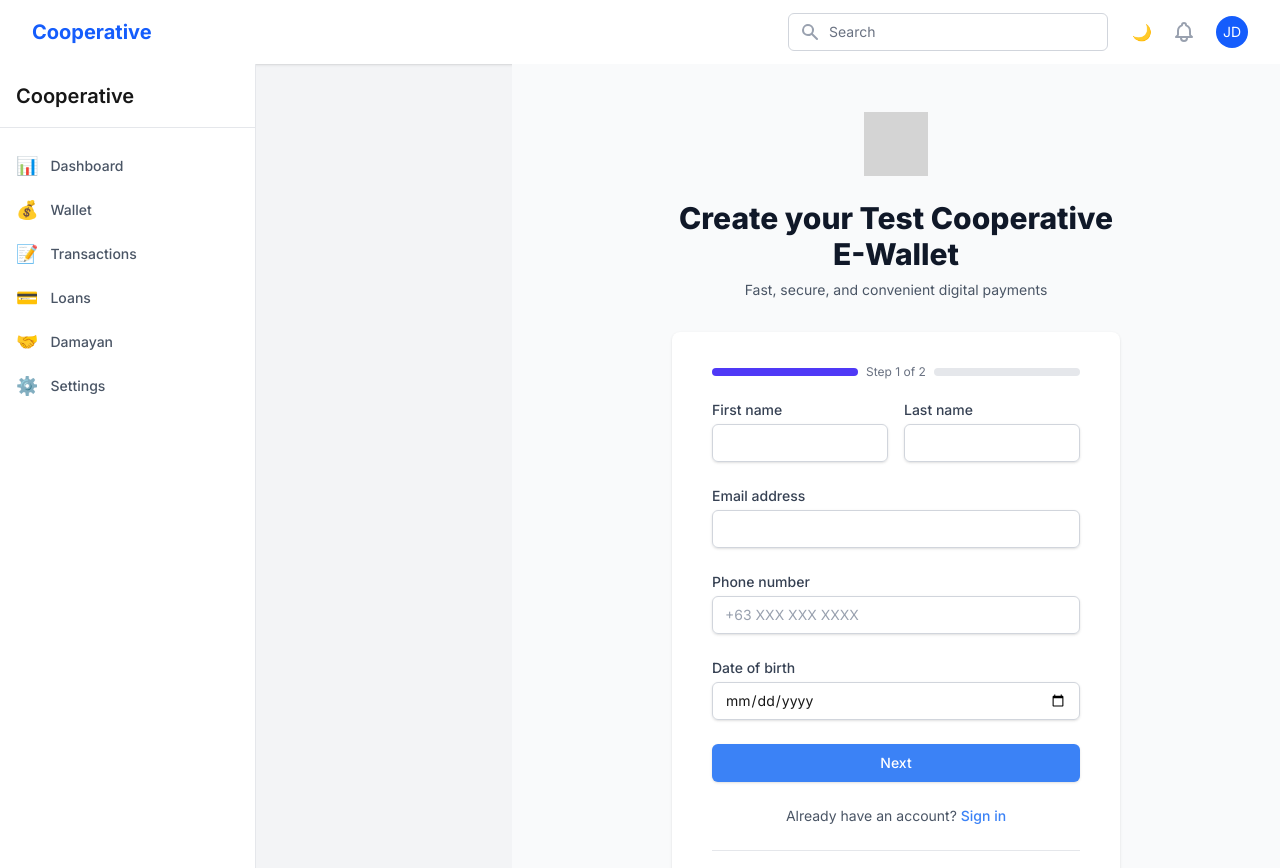
Test: EWalletRegisterPage › allows navigation between steps
Note: Fill out step 1
In the field labelled "First name": (800, 443) [712,424,888,462], type "John"
In the field labelled "Last name": (992, 443) [904,424,1080,462], type "Doe"
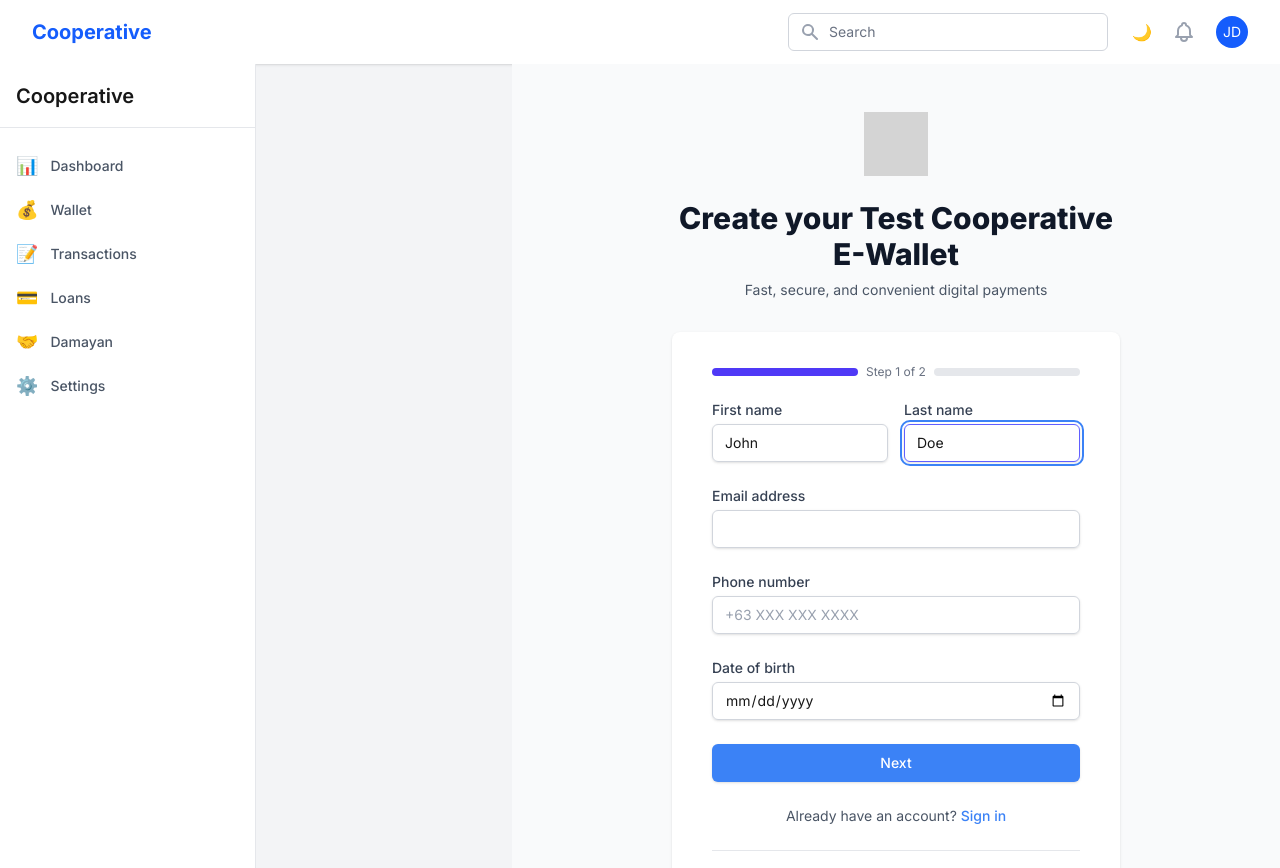
In the field labelled "Email address": (896, 529) [712,510,1080,548], type "john.doe@example.com"
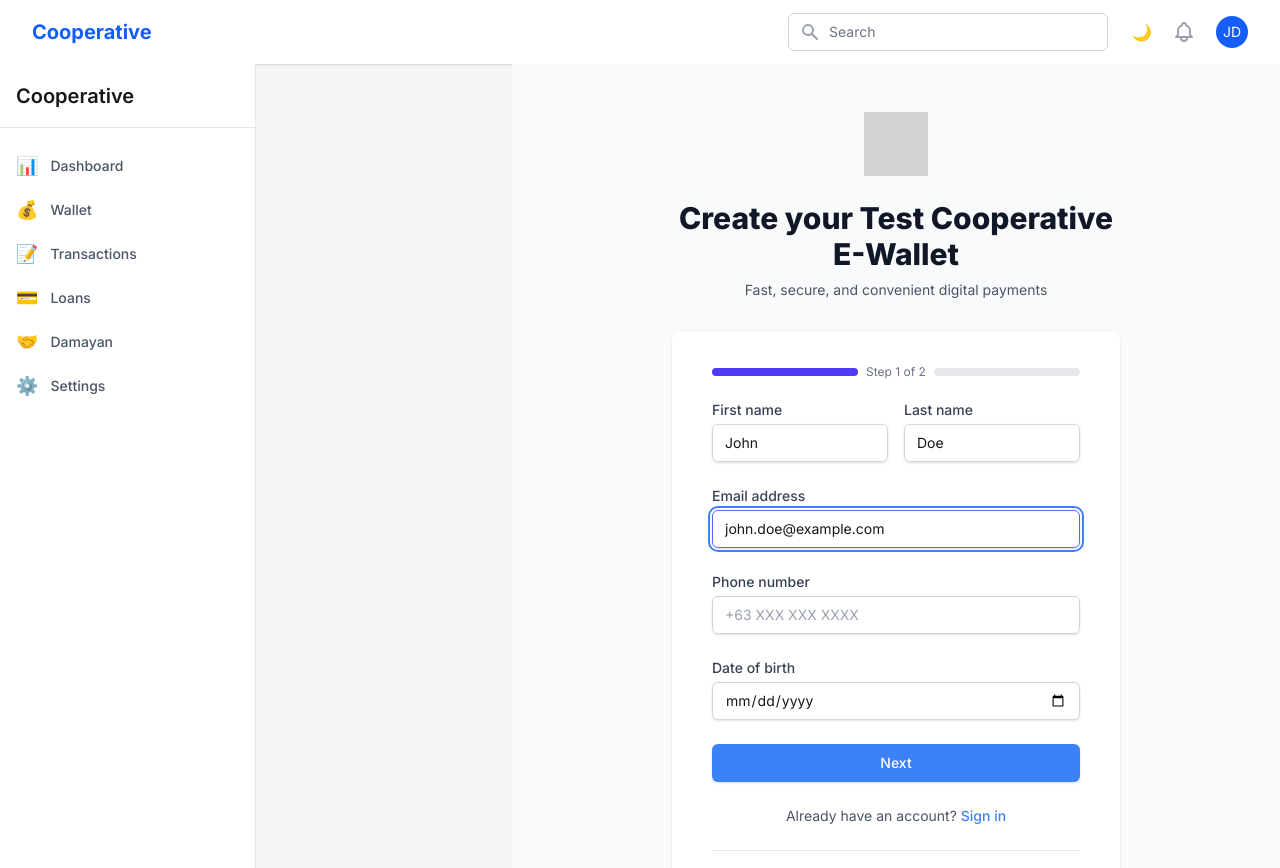
In the field labelled "Phone number": (896, 615) [712,596,1080,634], type "+1234567890"
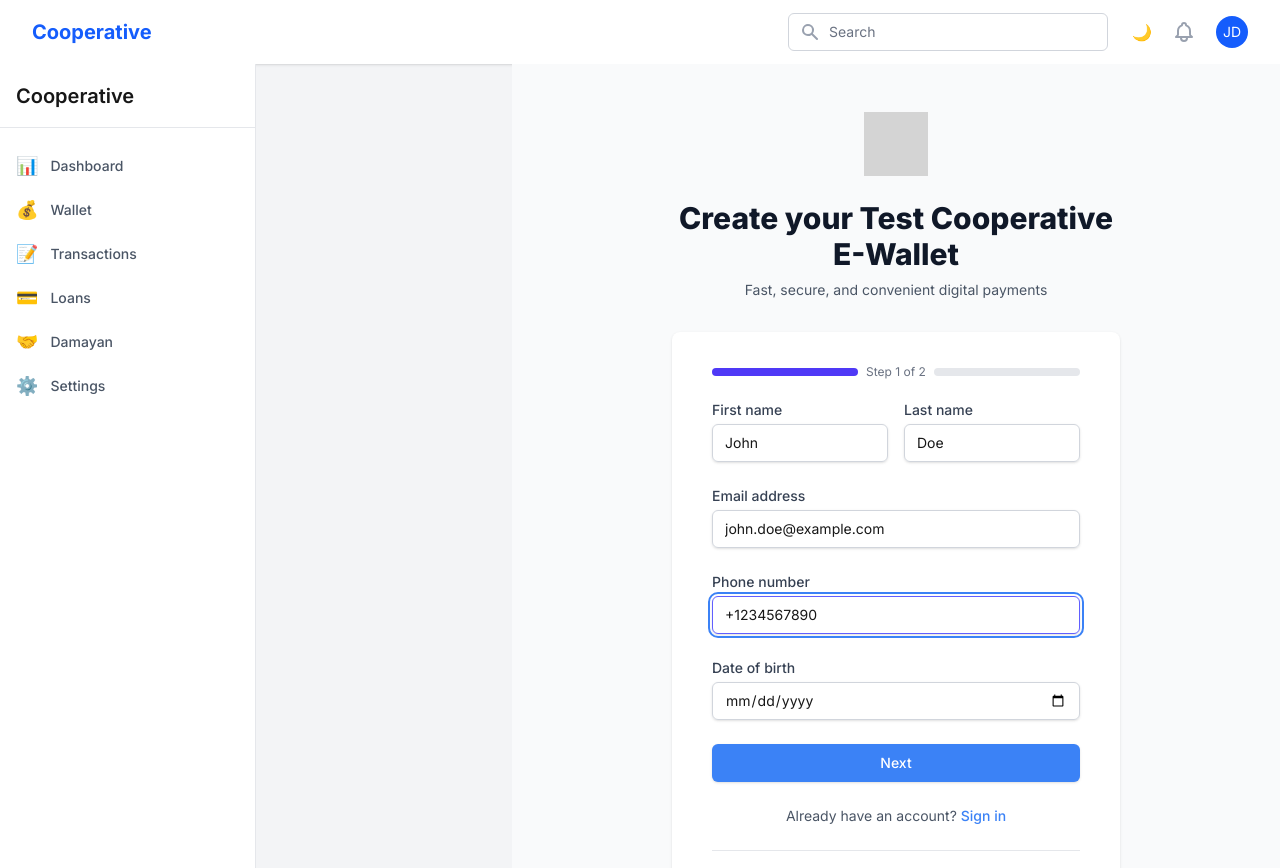
In the date field labelled "Date of birth": (896, 701) [712,682,1080,720], type "1990-01-01"
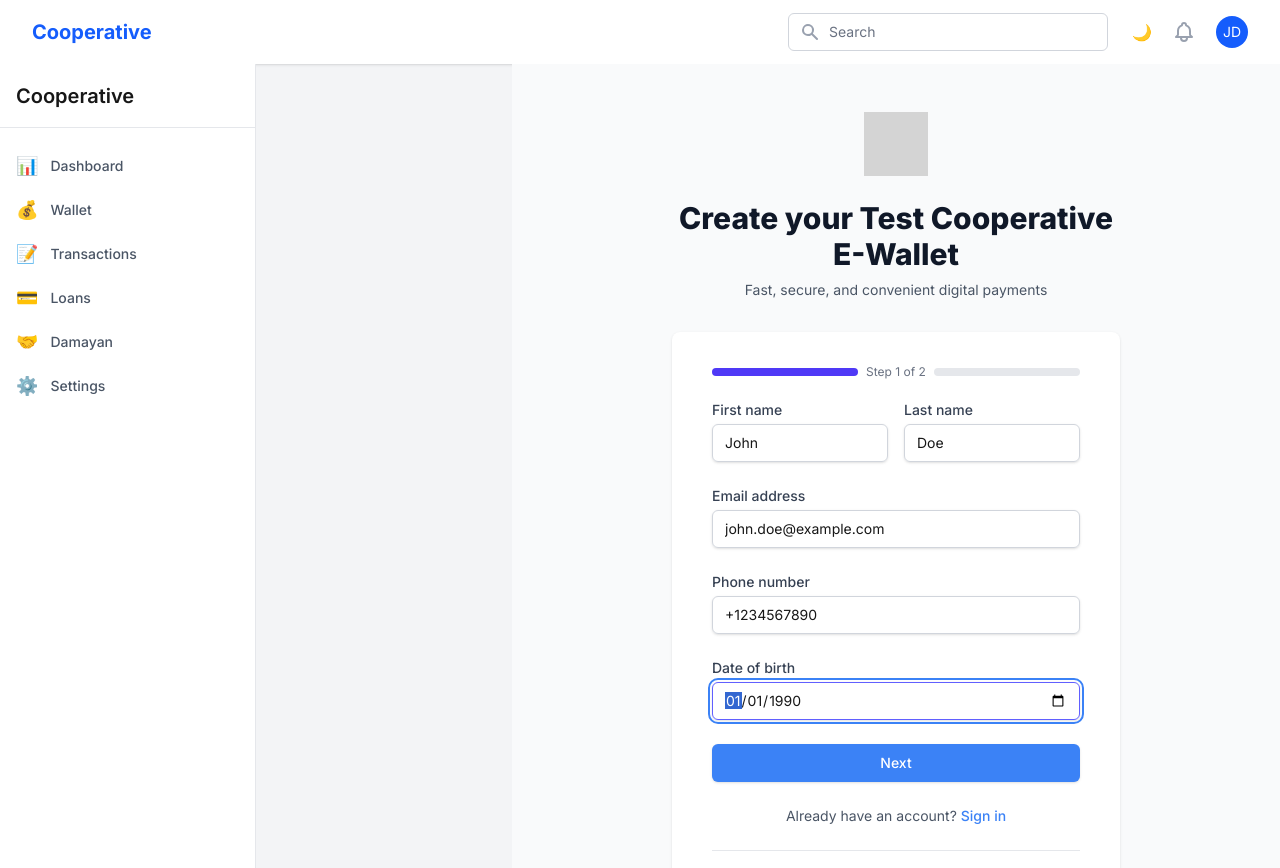
Note: Proceed to step 2
Click the button "Next": (896, 763) [712,744,1080,782]
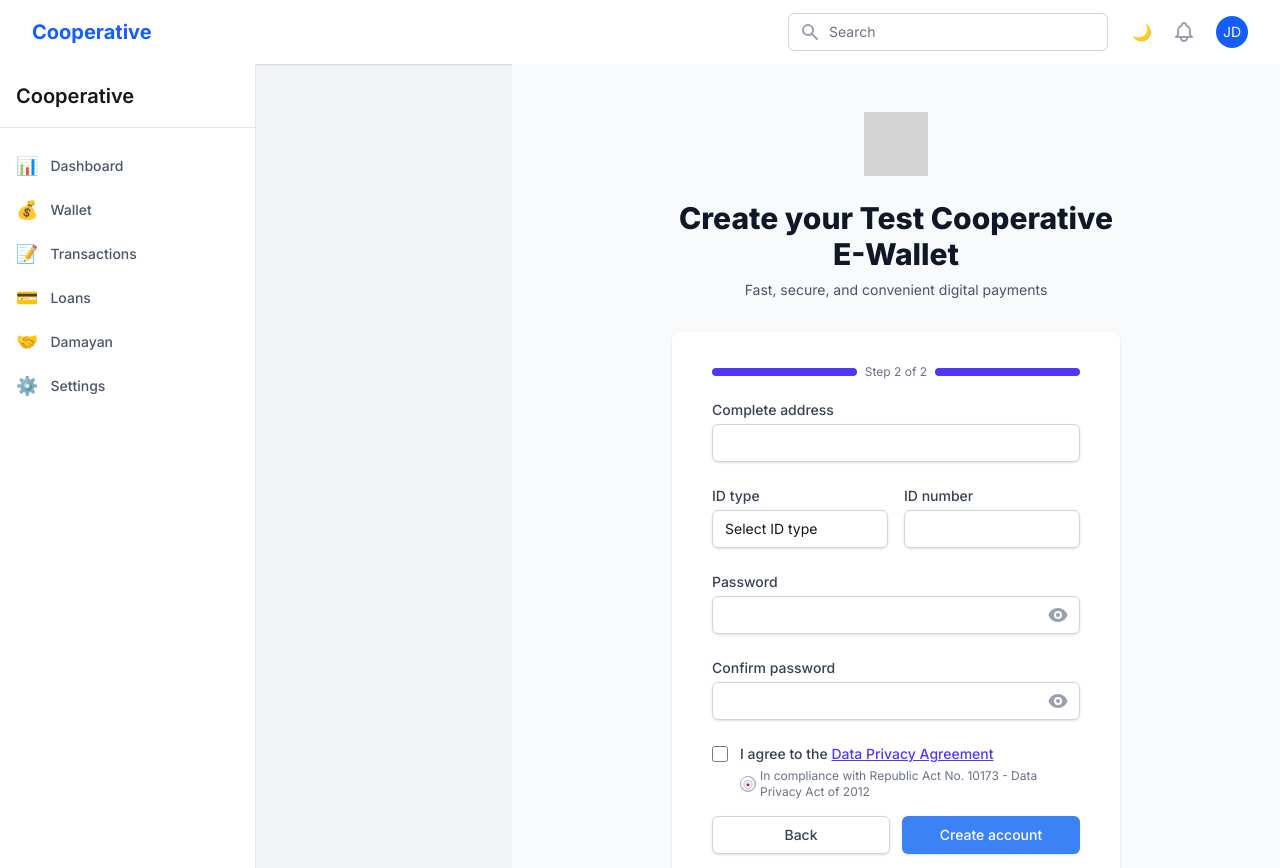
Check: the field labelled "Complete address" is shown, box [712,424,1080,462]
Note: Go back to step 1
Click the button "Back": (801, 835) [712,816,890,854]
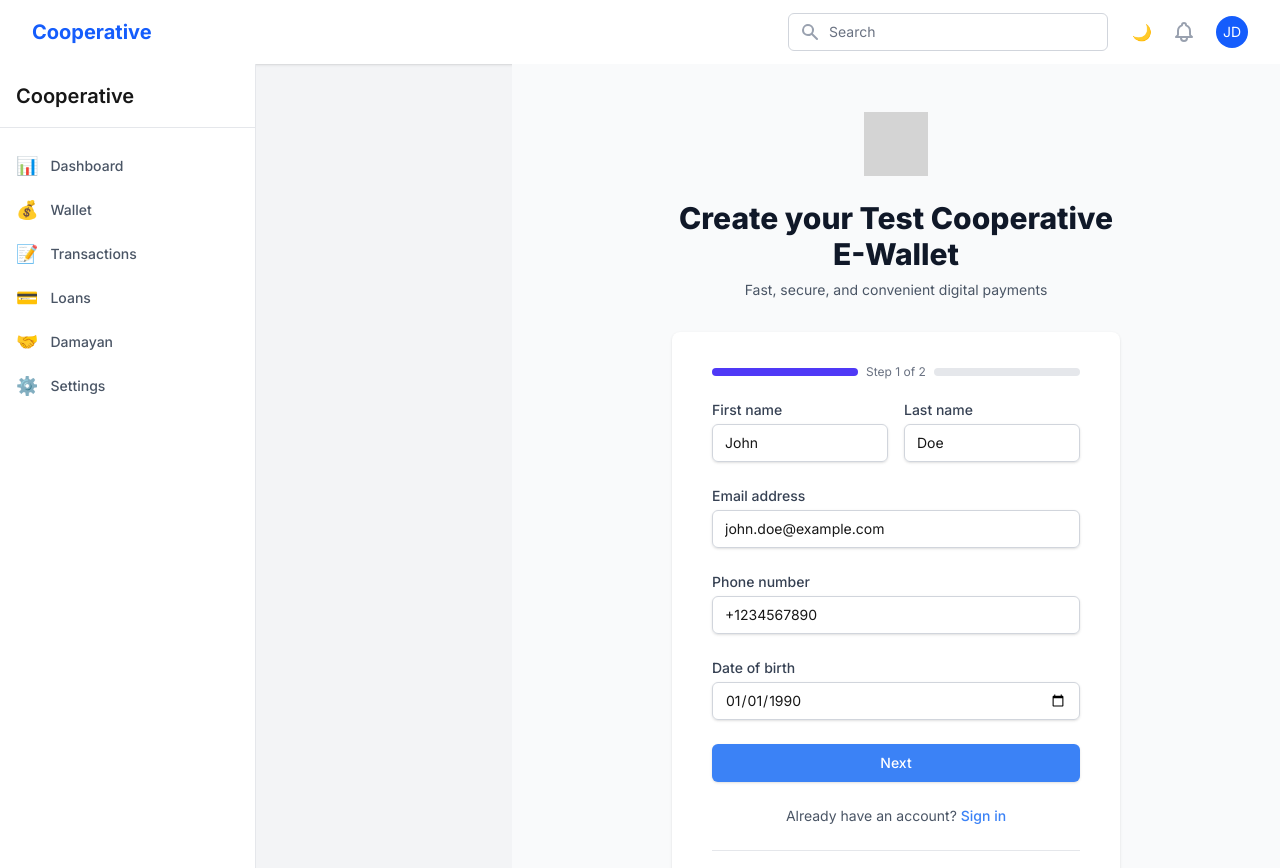
Check: the button "Next" is shown, box [712,744,1080,782]
Check: the field labelled "First name" holds "John", box [712,424,888,462]
Check: the field labelled "Last name" holds "Doe", box [904,424,1080,462]
